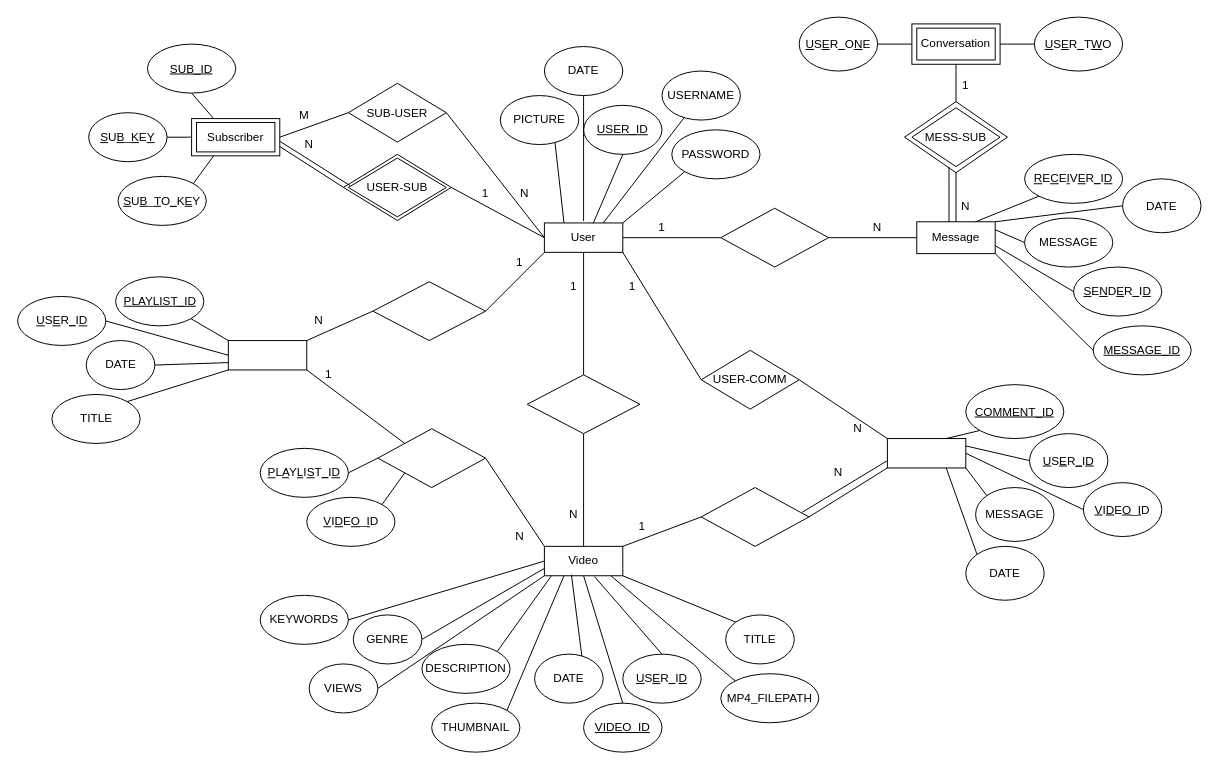
This 1218x769 diagram has some shape labels left out. Each missing label, with the centre of its shape:
"Comment" goes at point (926, 453).
"Playlist" goes at point (267, 355).
"Playlist_Linker" goes at point (431, 458).
"USER-MESS" goes at point (774, 237).
"USER-PLAY" goes at point (429, 311).
"USER-VIDEO" goes at point (583, 404).
"VIDEO-COMM" goes at point (754, 516).
